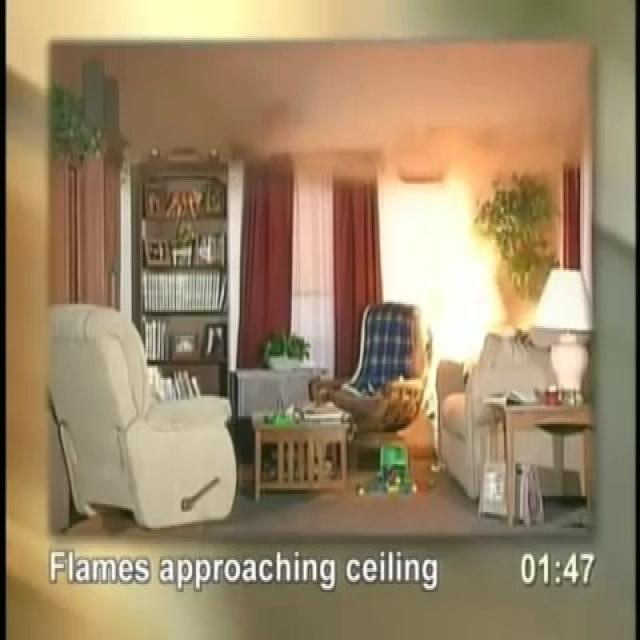Fire: (357, 132, 540, 432)
